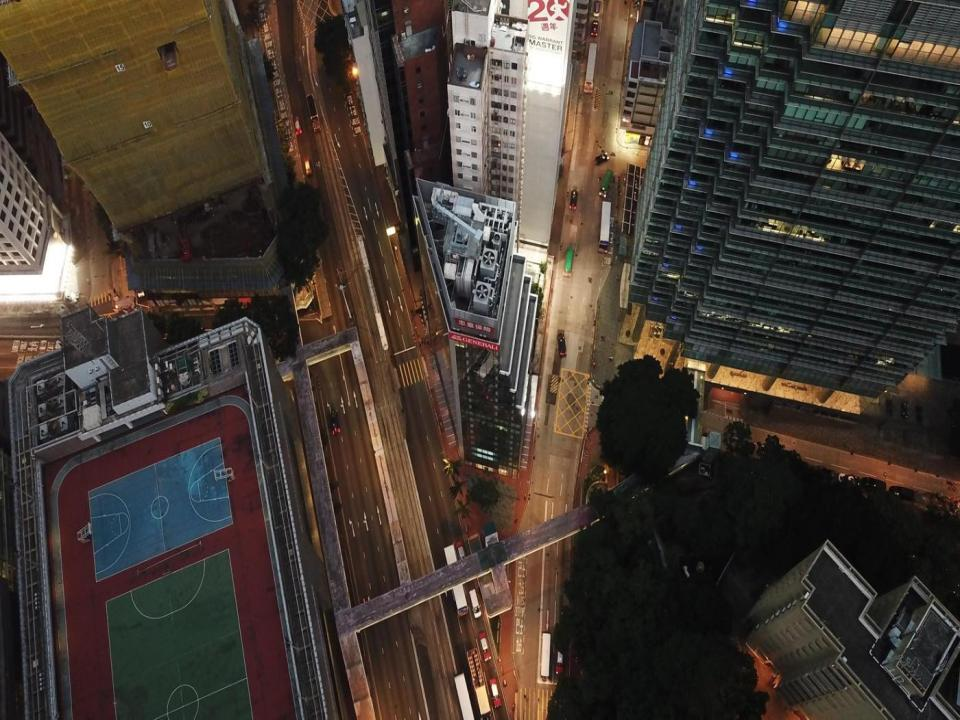bus: (466, 648, 492, 719), (444, 544, 468, 616), (454, 673, 474, 719), (598, 201, 611, 253), (584, 43, 597, 93), (306, 93, 320, 132), (540, 630, 550, 679)
car: (478, 632, 492, 660), (489, 676, 501, 708), (330, 409, 340, 436), (456, 541, 466, 566), (556, 647, 564, 675), (594, 152, 609, 166), (304, 156, 313, 174), (570, 189, 578, 209), (590, 19, 598, 37), (294, 116, 301, 135), (593, 1, 601, 16)
truck: (599, 168, 614, 197), (563, 246, 573, 277)
van: (470, 588, 480, 618), (557, 333, 566, 357)
